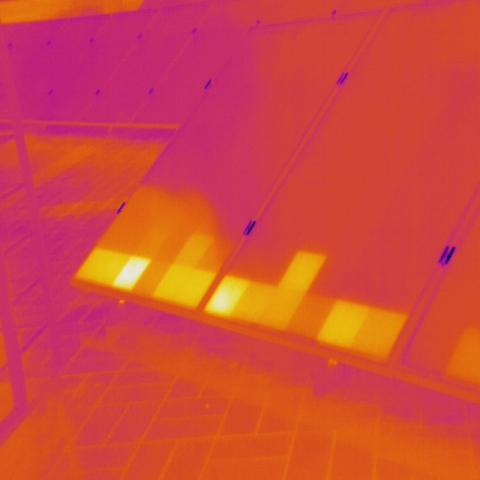fault: (349, 303, 410, 362), (318, 298, 370, 348), (200, 273, 253, 322), (230, 278, 278, 329), (276, 248, 329, 291), (148, 258, 192, 304), (108, 252, 152, 294), (175, 232, 217, 270)
